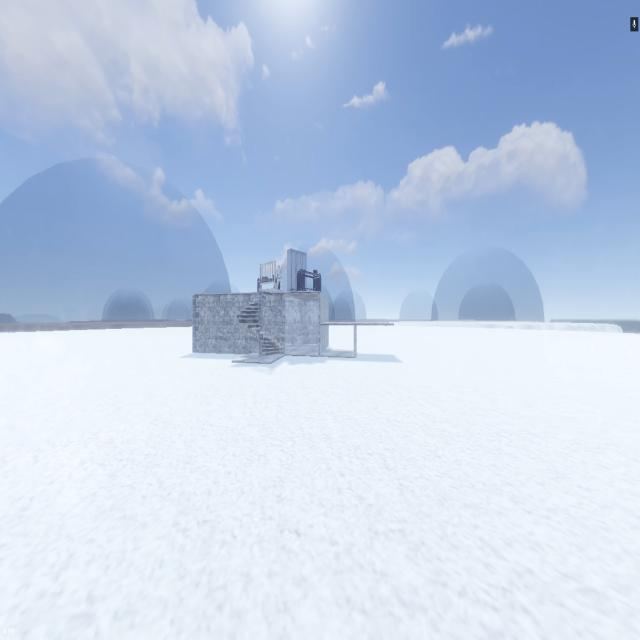Player: (276, 264, 282, 290)
